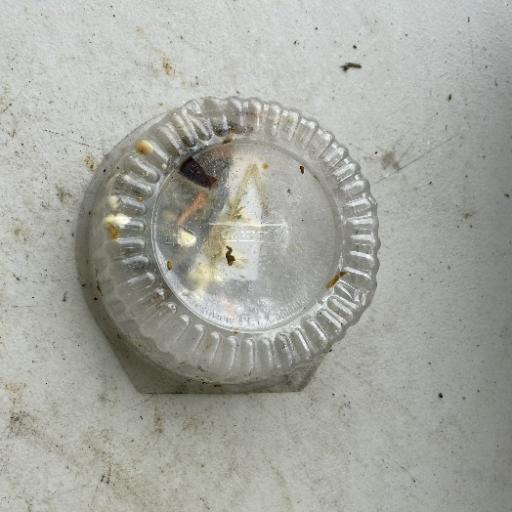Plastic: (73, 92, 383, 396)
